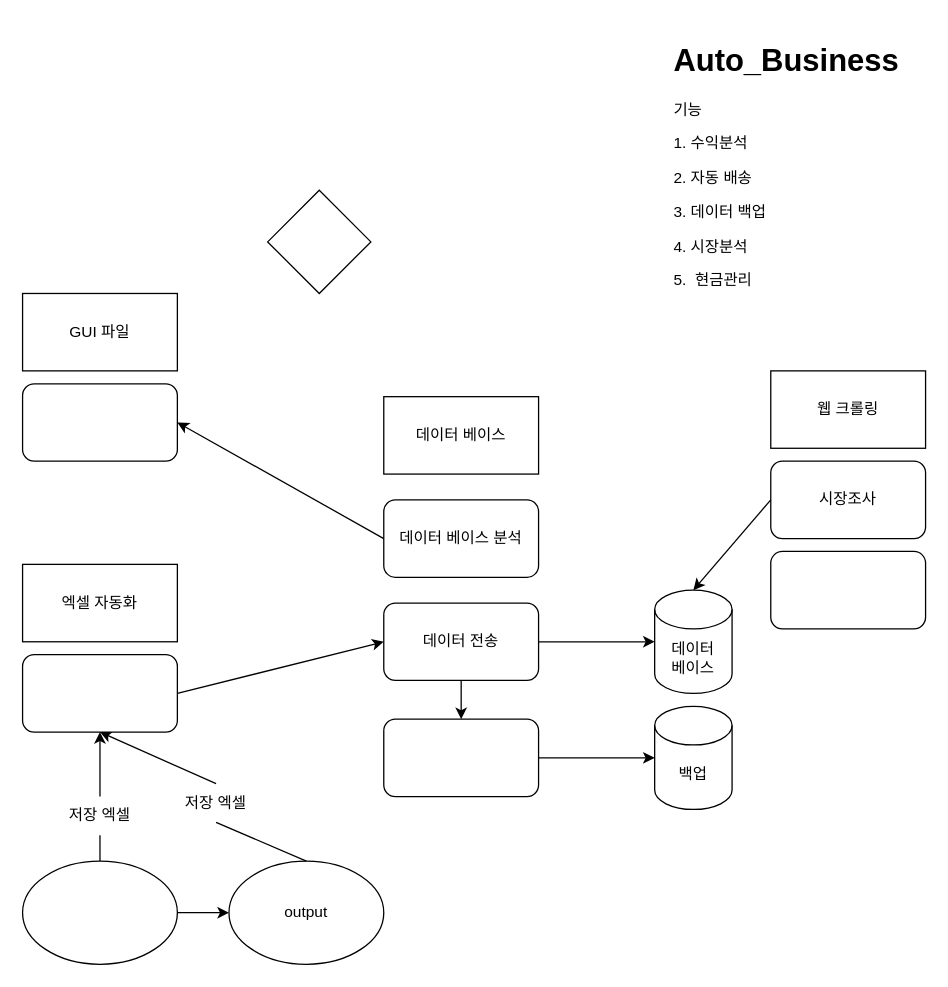
Some shapes in this 948 by 987 pixel diagram are drawn without their labels. The box of each missing label's shape, as (x1, y1, x2, y2) in pixels:
1_layout: (21, 382, 177, 461)
2_module: (21, 653, 177, 732)
input: (21, 860, 177, 964)
데이터 백업: (382, 718, 539, 797)
배송 자동화: (769, 550, 926, 629)
